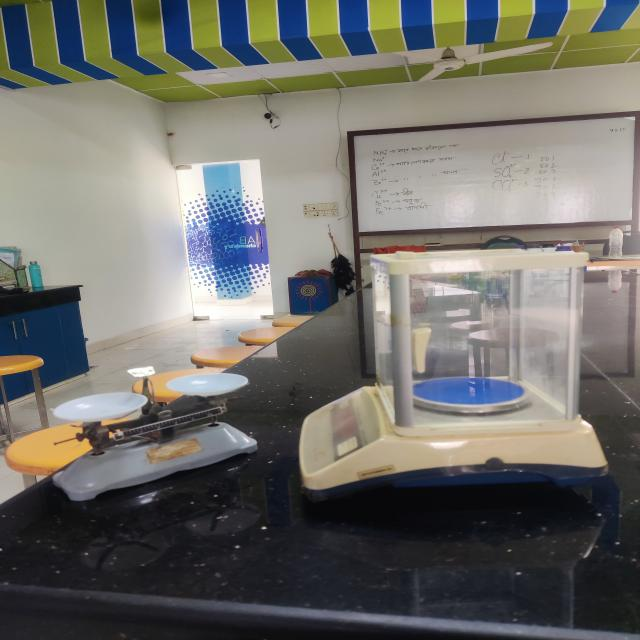Mechanical_Balance_Scale: (38, 360, 268, 512)
Precision_Weight_Scale: (288, 233, 639, 525)
